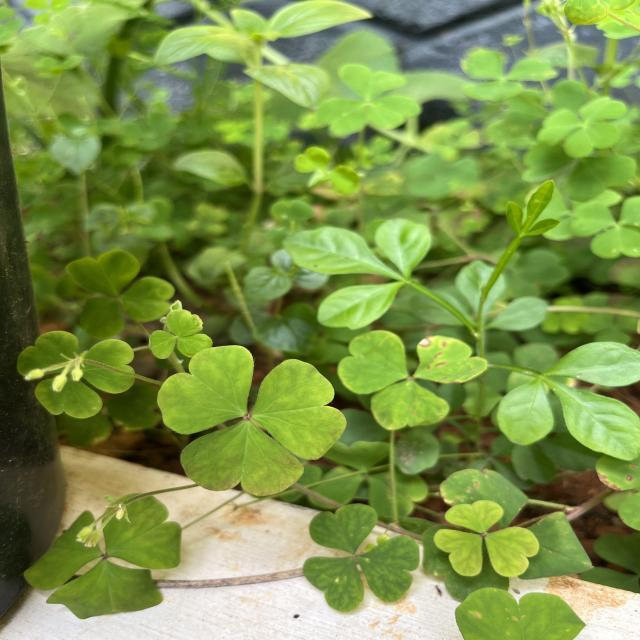Oxalis corniculata: (155, 343, 349, 498), (336, 328, 491, 432), (302, 502, 421, 614), (433, 500, 540, 578), (148, 310, 214, 360)
